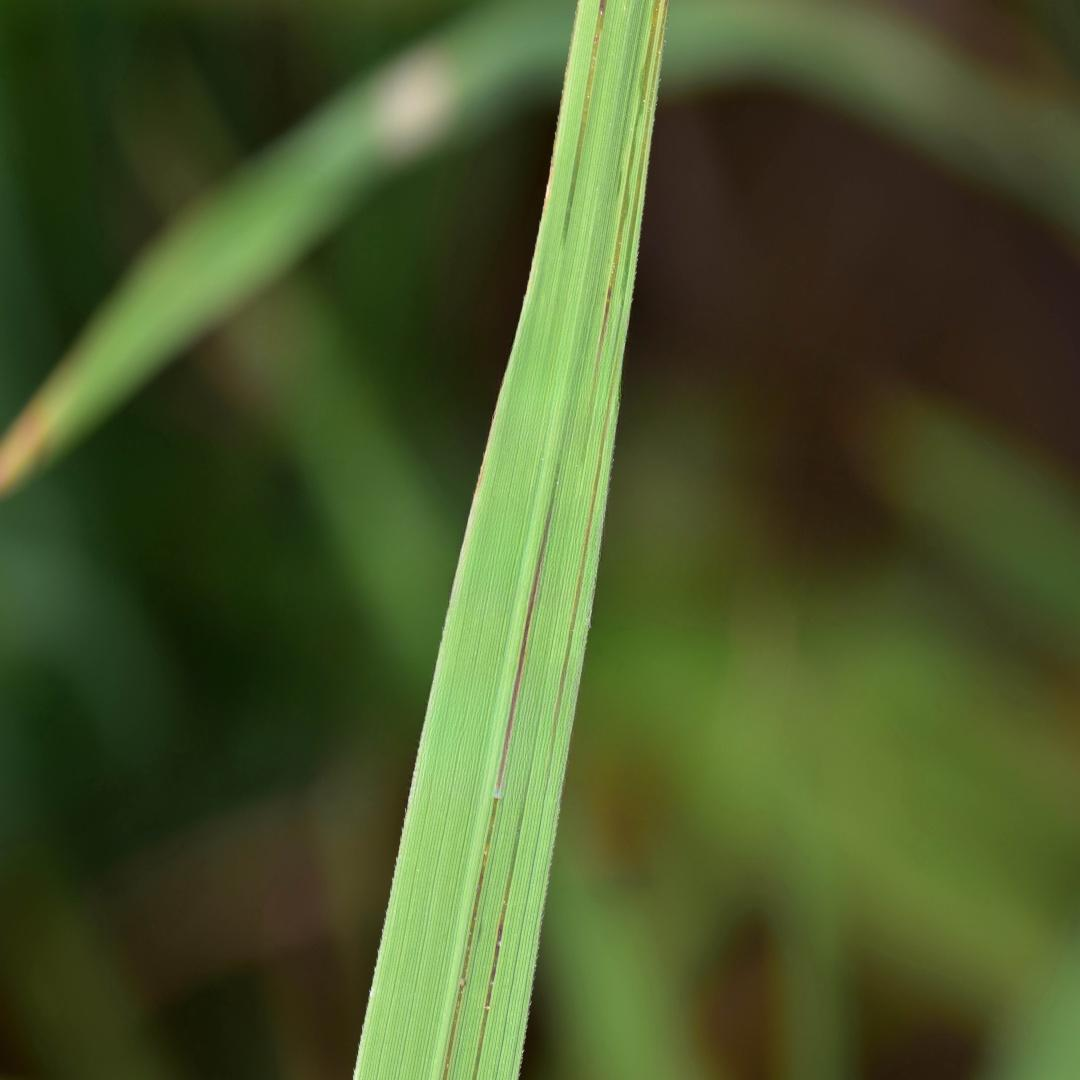BLS: (443, 445, 564, 1079), (588, 0, 661, 410), (472, 708, 542, 1079), (551, 355, 617, 745), (607, 0, 668, 389), (560, 0, 607, 248)
LEAF: (356, 0, 668, 1079)
